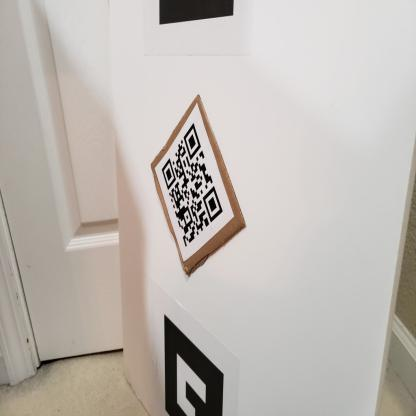qr: (157, 120, 232, 254)
